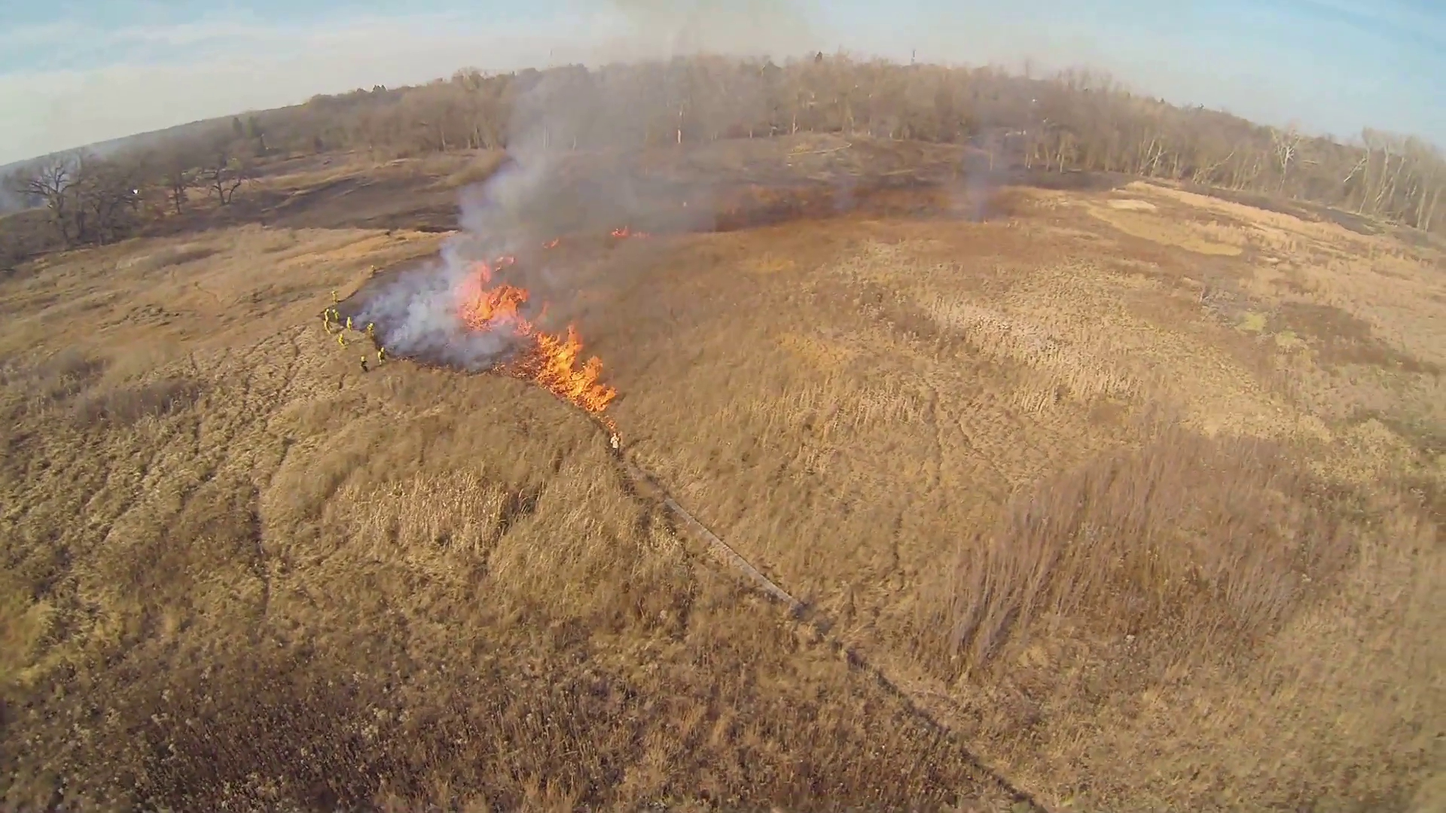forest_fire: (459, 257, 616, 413)
